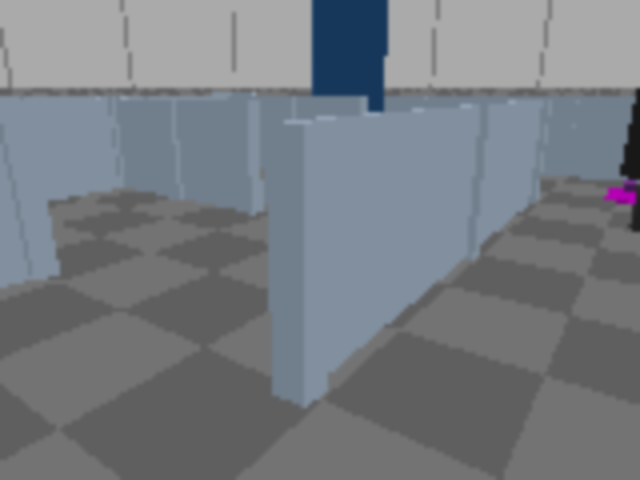traffic_light: (609, 80, 638, 238)
